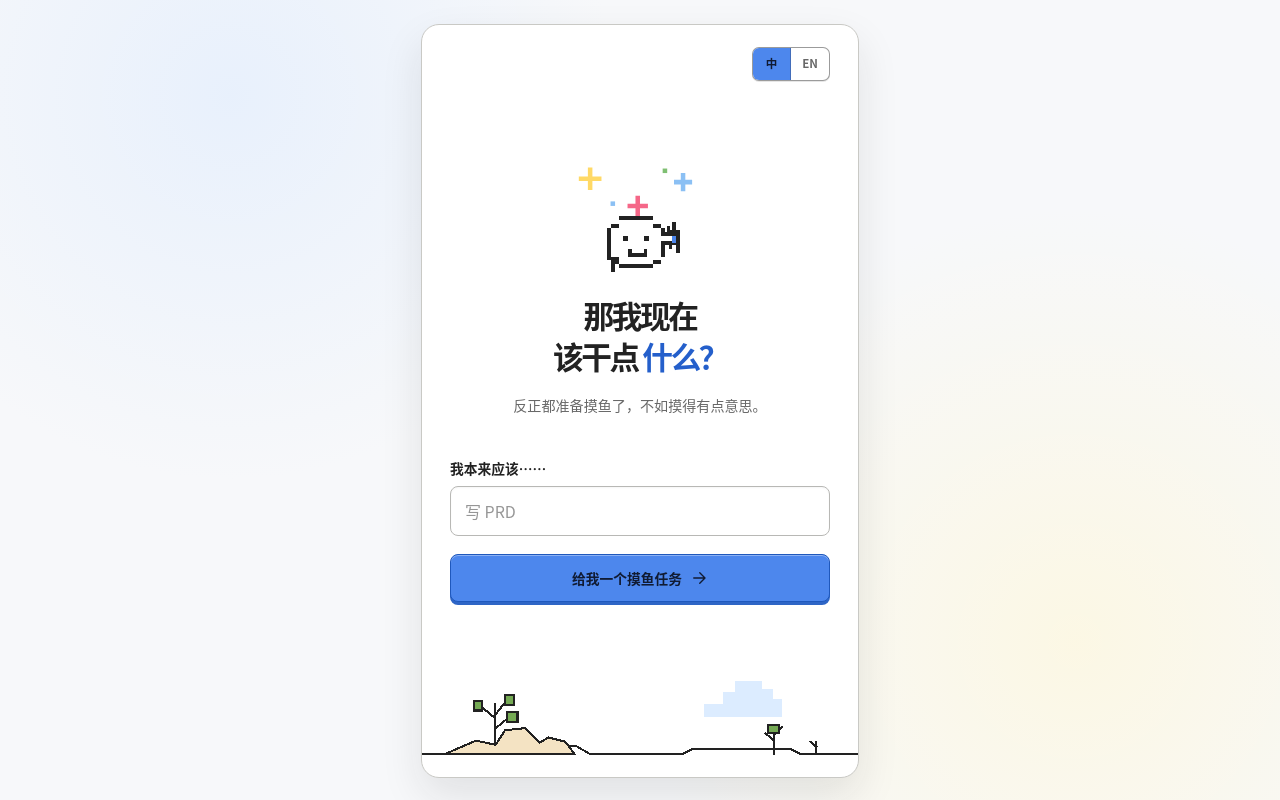
Test: main escape flow › switches the complete flow to English without changing the entered task
This screenshot has width=1280, height=800.
In the field labelled "我本来应该……": (640, 511) [450,486,830,536], type "write my PRD"
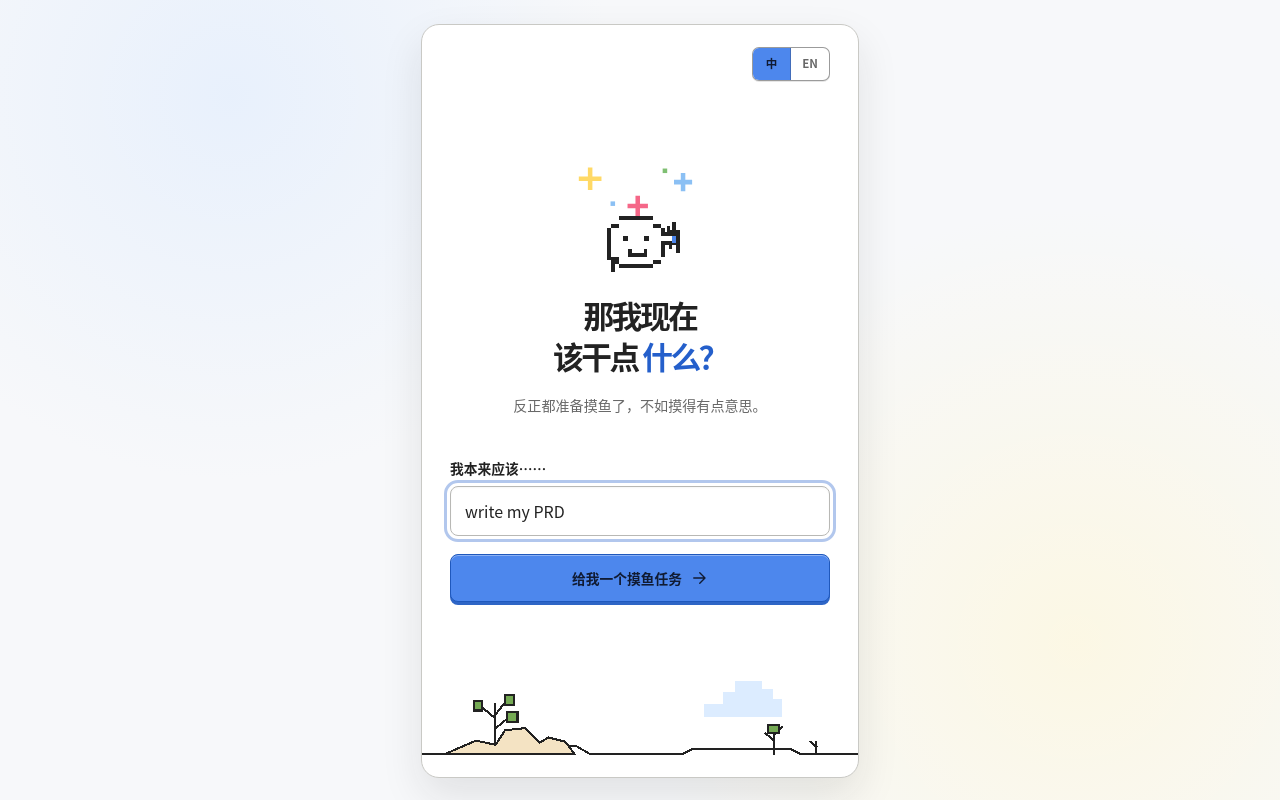
Click the button with aria-label "Switch to English": (810, 64) [791,48,829,80]
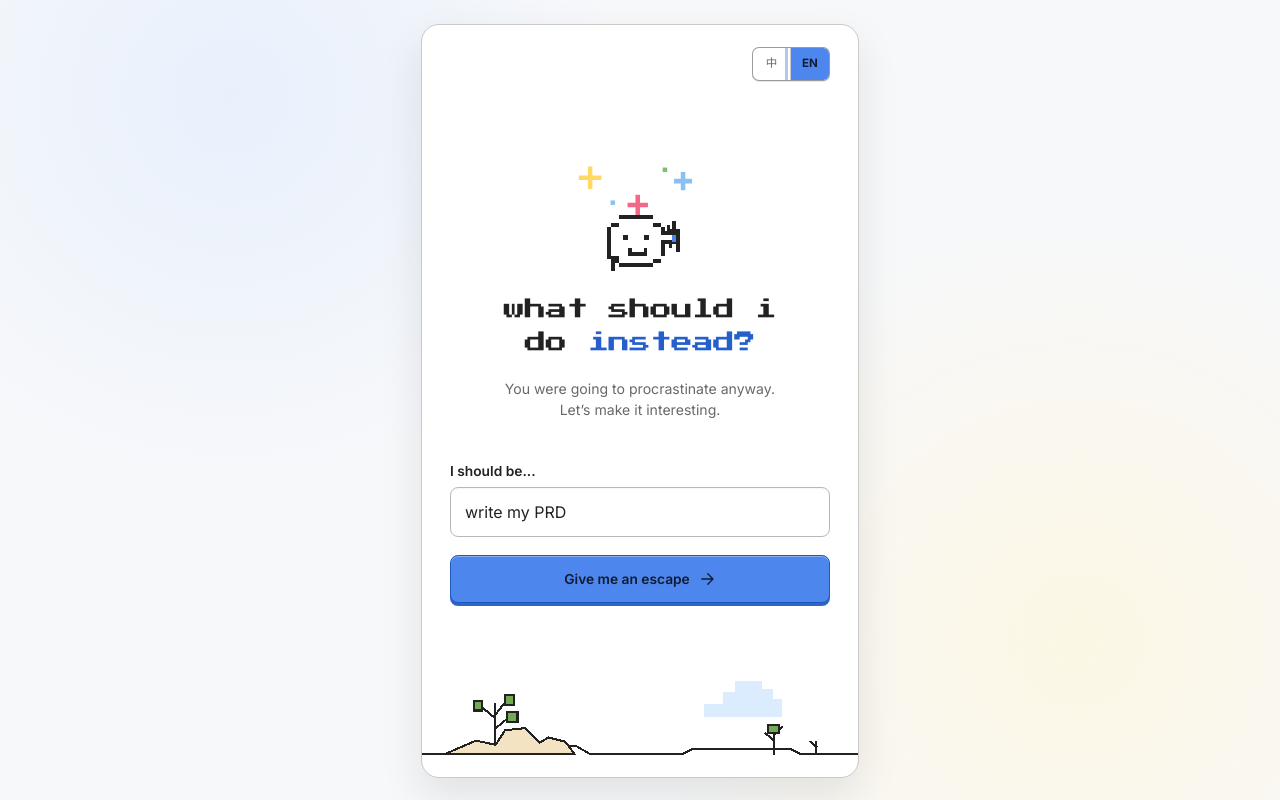
Click the button "Give me an escape": (640, 579) [450,555,830,603]
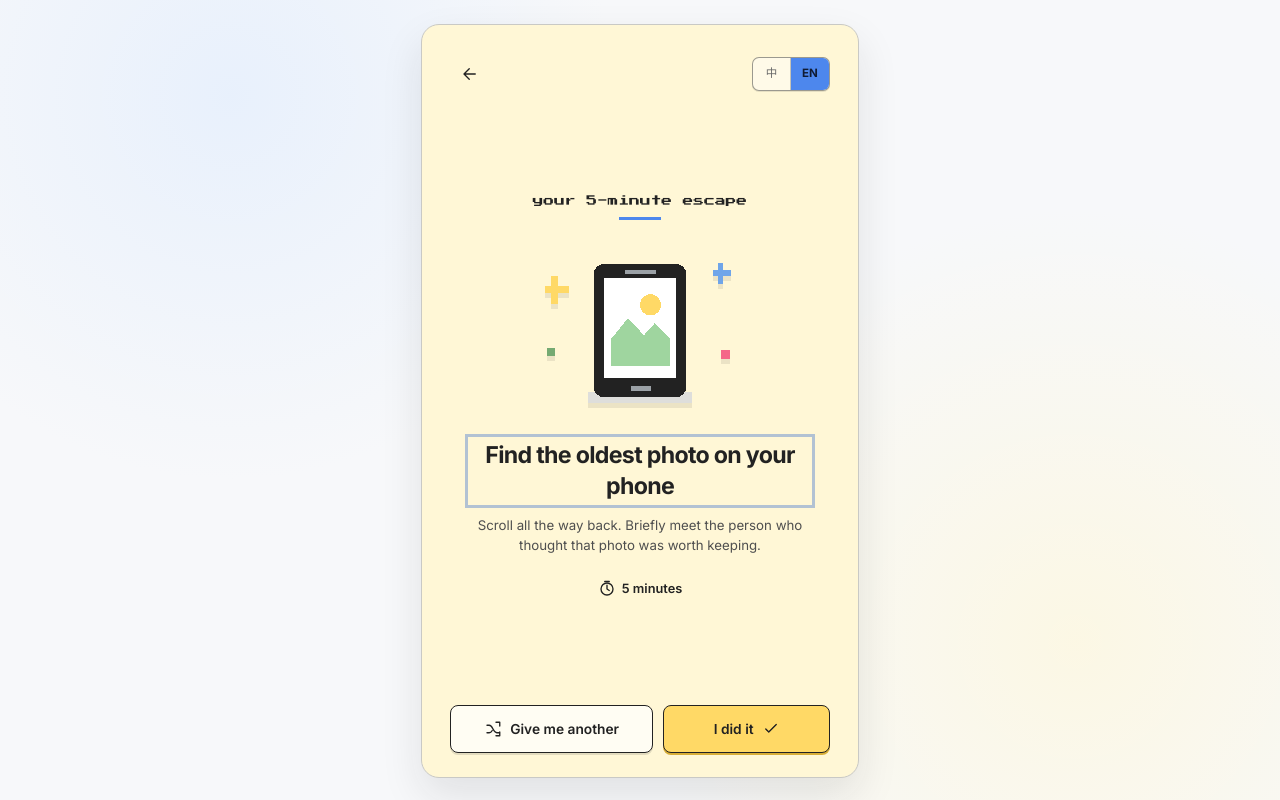
Expected: the text "Your 5-minute escape" is shown, [533,192,747,209]
Expected: the button "Give me another" is shown, [450,705,653,753]
Click the button "I did it": (747, 729) [663,705,830,753]
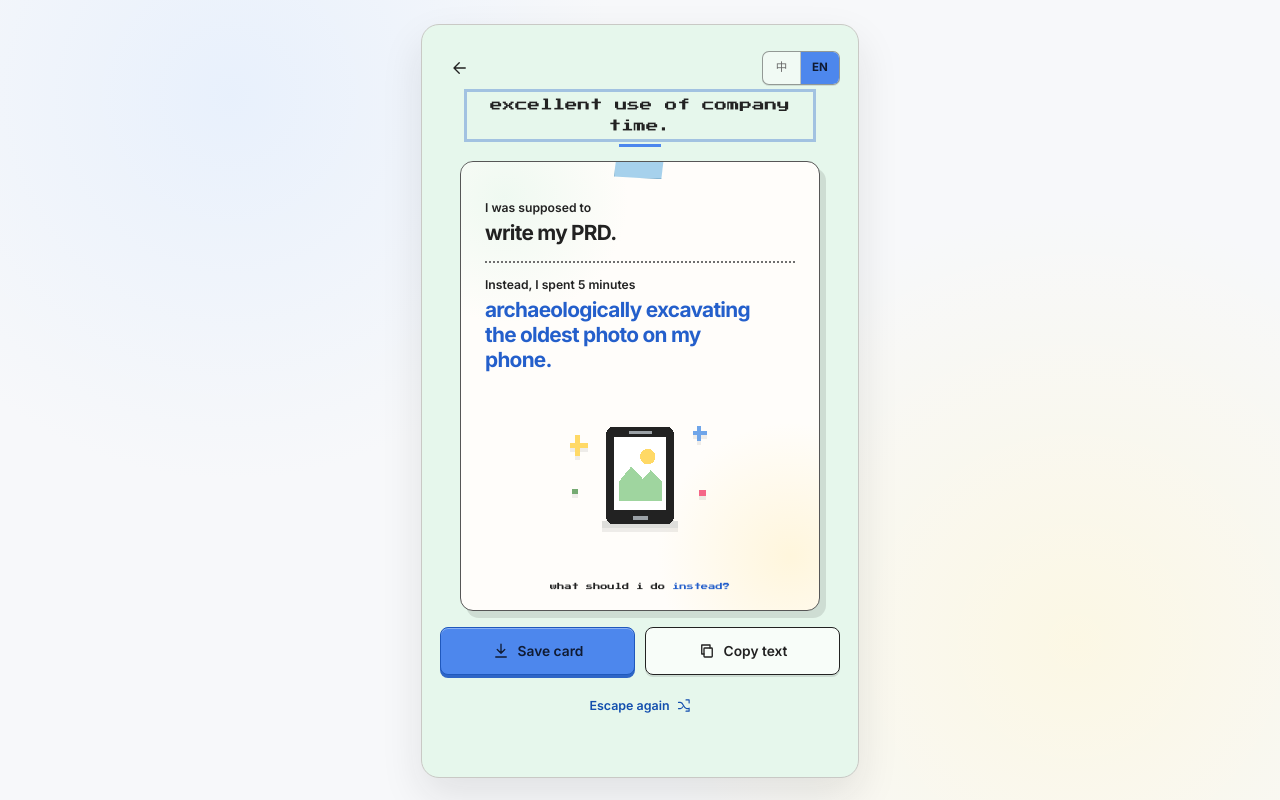
Expected: the heading "Excellent use of company time." is shown, [470,95,810,136]
Expected: the button "Save card" is shown, [440,627,635,675]
Expected: the button "Copy text" is shown, [645,627,840,675]
